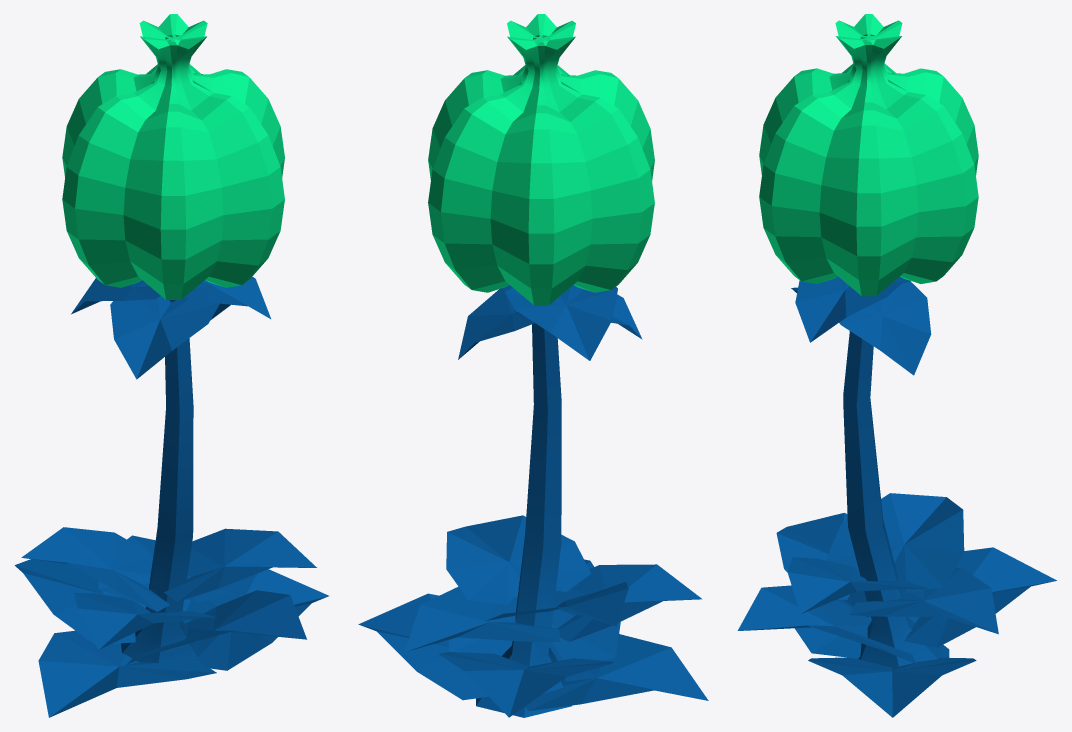
Rendered from Pumpkin_Fungus_1.fbx.
The picture shows the model from 3 angles, left to right: view 1: azimuth 30°, elevation 25°; view 2: azimuth 150°, elevation 25°; view 3: azimuth 270°, elevation 25°; orthographic projection. The views are drawn at different scales.
Visible parts, largest first — view 1: stem, glow; view 2: stem, glow; view 3: stem, glow.
Boxes of the visible parts, x1,y1,x2,y2 form: stem: (14, 276, 328, 717); glow: (62, 14, 284, 299); stem: (358, 285, 708, 717); glow: (428, 14, 654, 305); stem: (737, 276, 1056, 717); glow: (759, 14, 978, 296).
Bounding box in the file's own units: 15.93 × 31.17 × 14.32.
